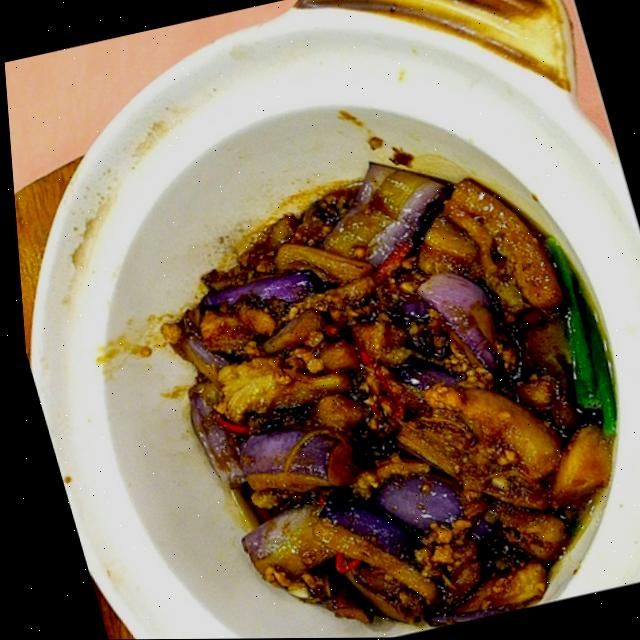鸡蛋料理: (18, 14, 640, 640)
